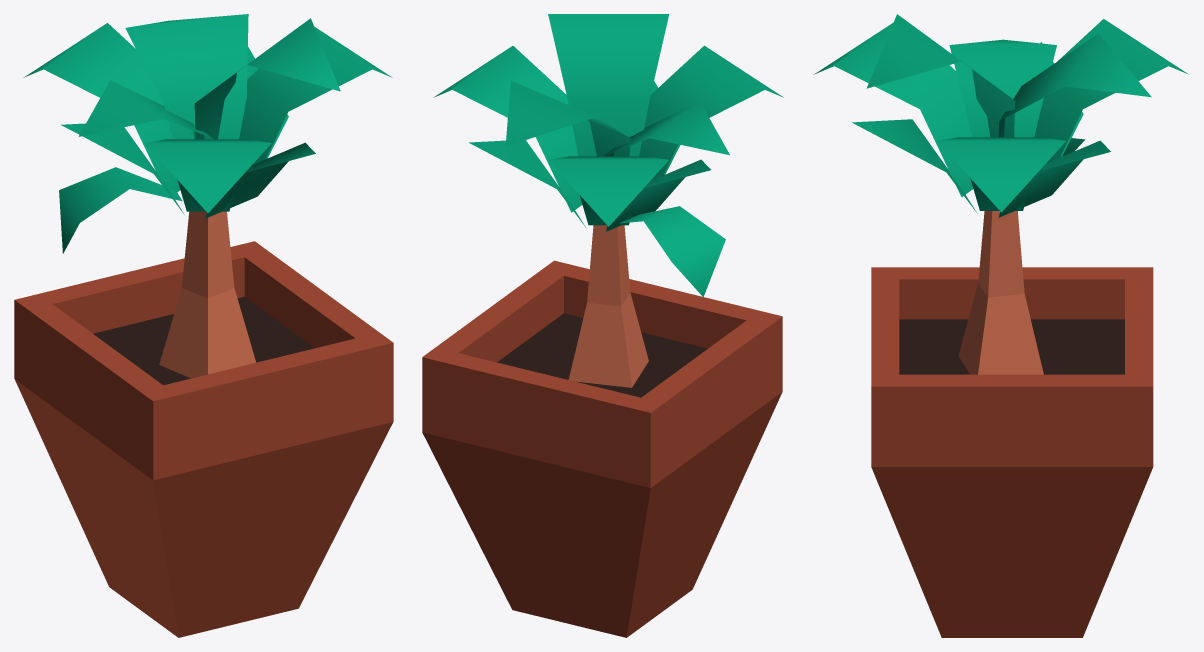
File: collectible_plant_palm.glb
3 views of the same model, side by side, from view 1: azimuth 30°, elevation 25°; view 2: azimuth 150°, elevation 25°; view 3: azimuth 270°, elevation 25° (orthographic). The views are drawn at different scales.
Visible parts, largest first — view 1: roof_flat, block_taper%, plant_largeLeaf (×4), plant_large, tree_branchLong, plant_small; view 2: roof_flat, block_taper%, plant_largeLeaf (×4), plant_large, tree_branchLong, plant_small; view 3: roof_flat, block_taper%, plant_large, plant_largeLeaf (×3), tree_branchLong, plant_small.
Part boxes in pixels (<box>): roof_flat: <box>14,241,393,480</box>; block_taper%: <box>14,379,393,637</box>; plant_largeLeaf (×4): <box>59,14,340,253</box>; plant_large: <box>23,23,392,212</box>; tree_branchLong: <box>159,211,255,378</box>; plant_small: <box>61,47,315,218</box>; roof_flat: <box>422,260,782,487</box>; block_taper%: <box>422,392,782,637</box>; plant_largeLeaf (×4): <box>505,14,729,297</box>; plant_large: <box>433,45,783,226</box>; tree_branchLong: <box>568,225,648,387</box>; plant_small: <box>469,81,710,231</box>; roof_flat: <box>871,267,1153,466</box>; block_taper%: <box>871,467,1152,637</box>; plant_large: <box>814,19,1188,212</box>; plant_largeLeaf (×3): <box>866,14,1151,137</box>; tree_branchLong: <box>958,211,1043,374</box>; plant_small: <box>852,42,1110,217</box>.
Bounding box in the file's own units: 0.7314 × 1.29 × 0.7471.
